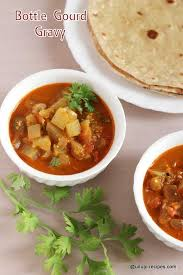curry: (14, 85, 103, 165), (141, 133, 183, 245)
roti: (87, 1, 183, 97)
